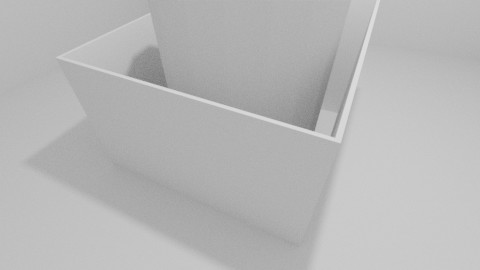cheminee: (147, 1, 351, 183)
eaf: (61, 57, 335, 242)
